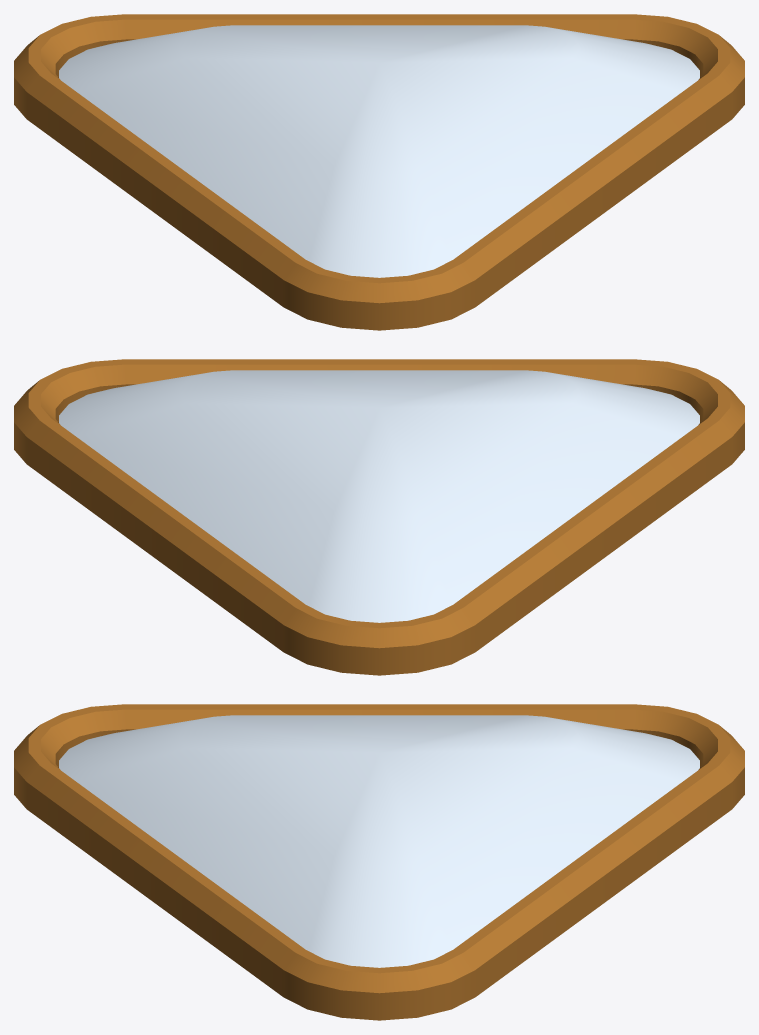
The model's file is insert-arrow.dae.
3 renders of one model, top to bottom at view 1: azimuth 30°, elevation 25°; view 2: azimuth 150°, elevation 25°; view 3: azimuth 270°, elevation 25°, orthographic.
Visible parts, largest first — view 1: lens, accent; view 2: lens, accent; view 3: lens, accent.
Boxes of the visible parts, x1,y1,x2,y2 form: lens: [59, 25, 699, 277]; accent: [14, 14, 744, 330]; lens: [59, 370, 699, 622]; accent: [14, 359, 744, 675]; lens: [59, 715, 699, 967]; accent: [14, 704, 744, 1020].
Bounding box in the file's own units: 1.76 × 0.28 × 1.93.
